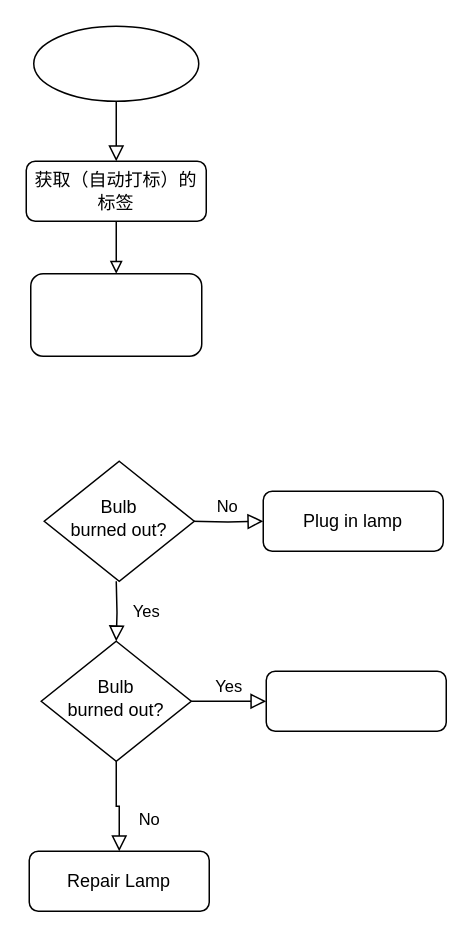
This 473x938 diagram has some shape labels left out. The centre of each missing label's shape, as x and y in pixels:
Replace Bulb: (x=355, y=700)
开始: (x=115, y=63)
获取最近一次打标后有更新的旅客会员列表: (x=115, y=314)
